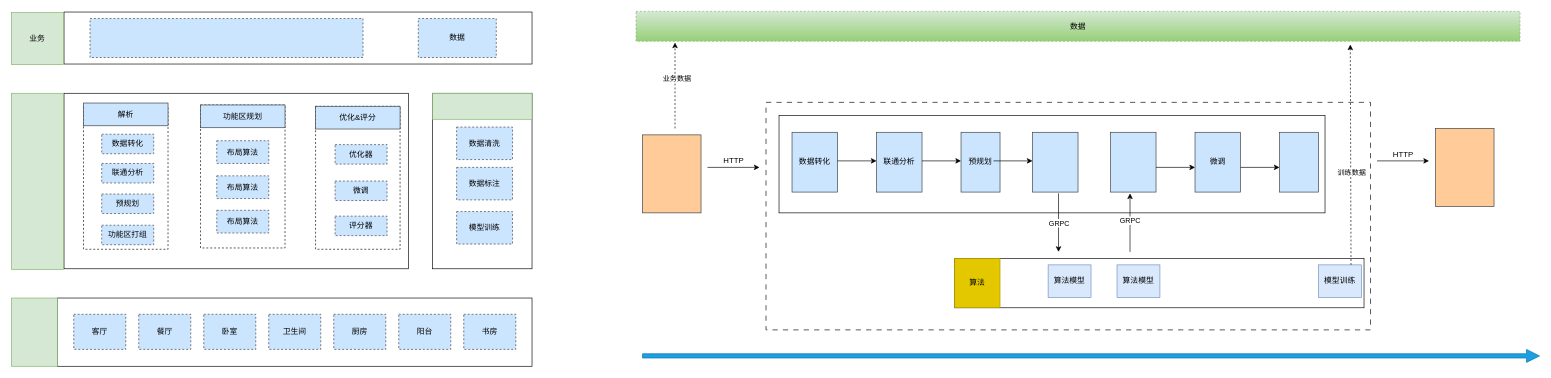
The diagram is 1551 pixels wide and 378 high, and some of its shapes have lost their labels. Each missing label, with the box of its shape:
DR: (89, 18, 363, 58)
DR 还原: (1435, 128, 1494, 206)
DR套用请求: (642, 134, 701, 213)
优化: (1110, 132, 1156, 192)
工程(微调): (11, 93, 63, 269)
空间打组: (1032, 132, 1078, 192)
算法(功能区): (11, 297, 58, 366)
算法模型训练: (432, 93, 532, 119)
评分: (1279, 132, 1319, 192)
